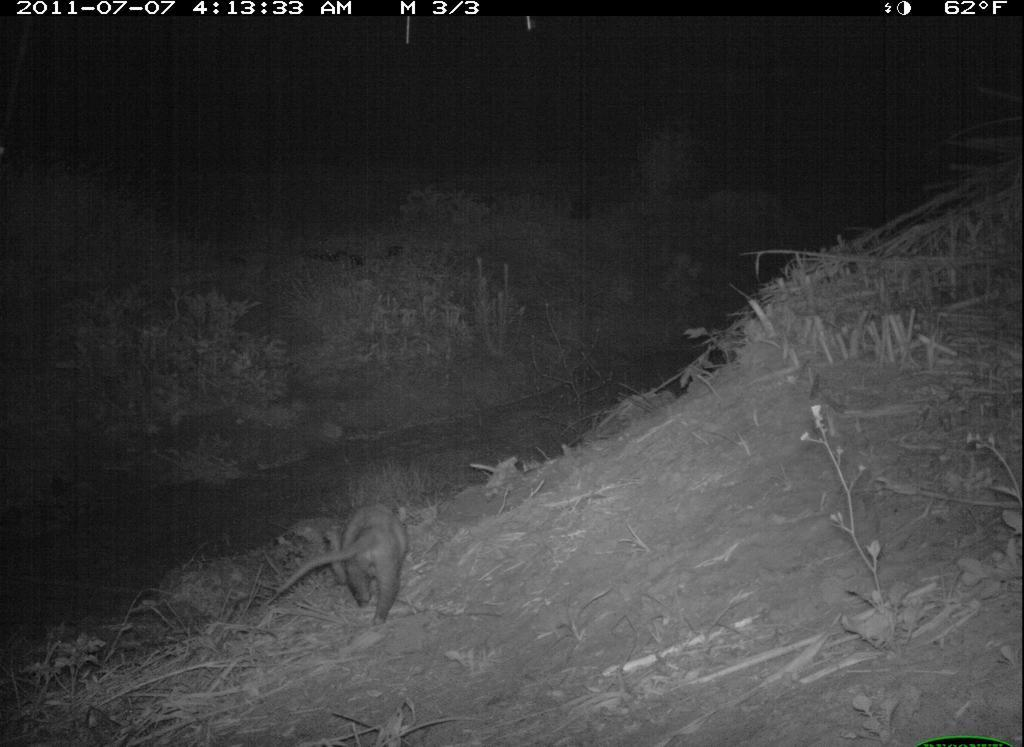opossum: (274, 501, 439, 632)
